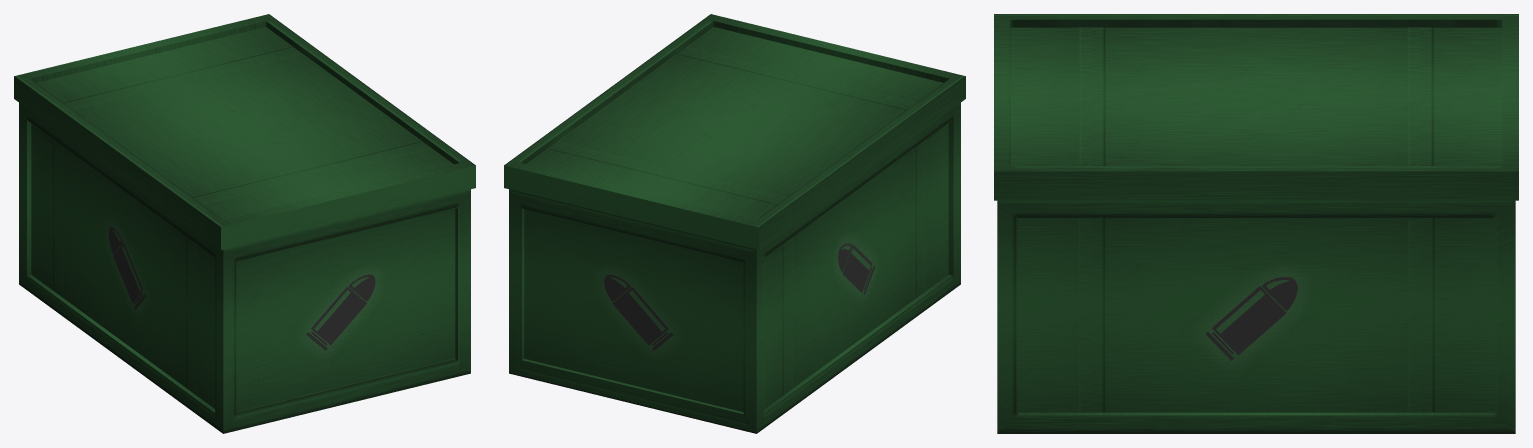
File: AmmoCrateWorking.fbx
3 views of the same model, side by side, from view 1: azimuth 30°, elevation 25°; view 2: azimuth 150°, elevation 25°; view 3: azimuth 270°, elevation 25° (orthographic). The views are drawn at different scales.
Visible parts, largest first — view 1: Cube, Cube.001; view 2: Cube, Cube.001; view 3: Cube, Cube.001.
Part boxes in pixels (bbox=[...]): Cube: bbox=[19, 103, 470, 433]; Cube.001: bbox=[14, 14, 475, 249]; Cube: bbox=[509, 103, 960, 433]; Cube.001: bbox=[504, 14, 965, 249]; Cube: bbox=[997, 200, 1515, 433]; Cube.001: bbox=[994, 14, 1518, 200].
Size of the model in its own units: 144 by 113 by 203.
2 materials, 2 textured.
